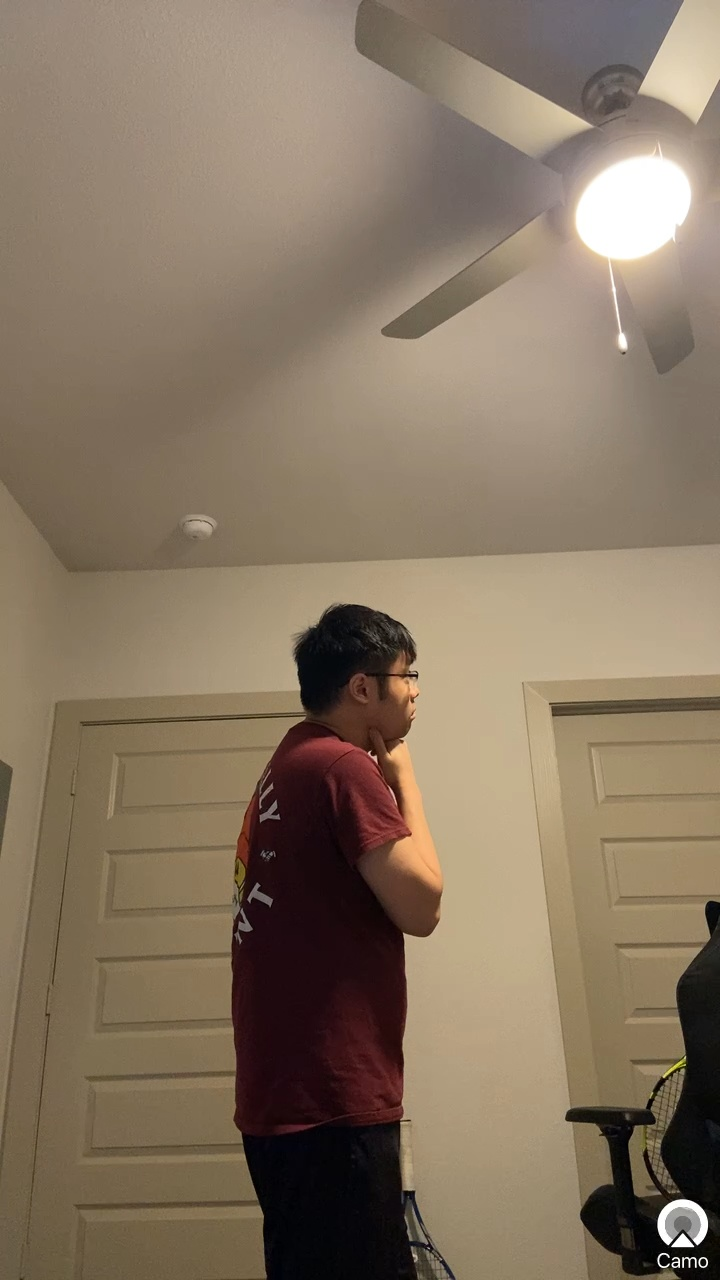Person: (182, 575, 505, 1280)
